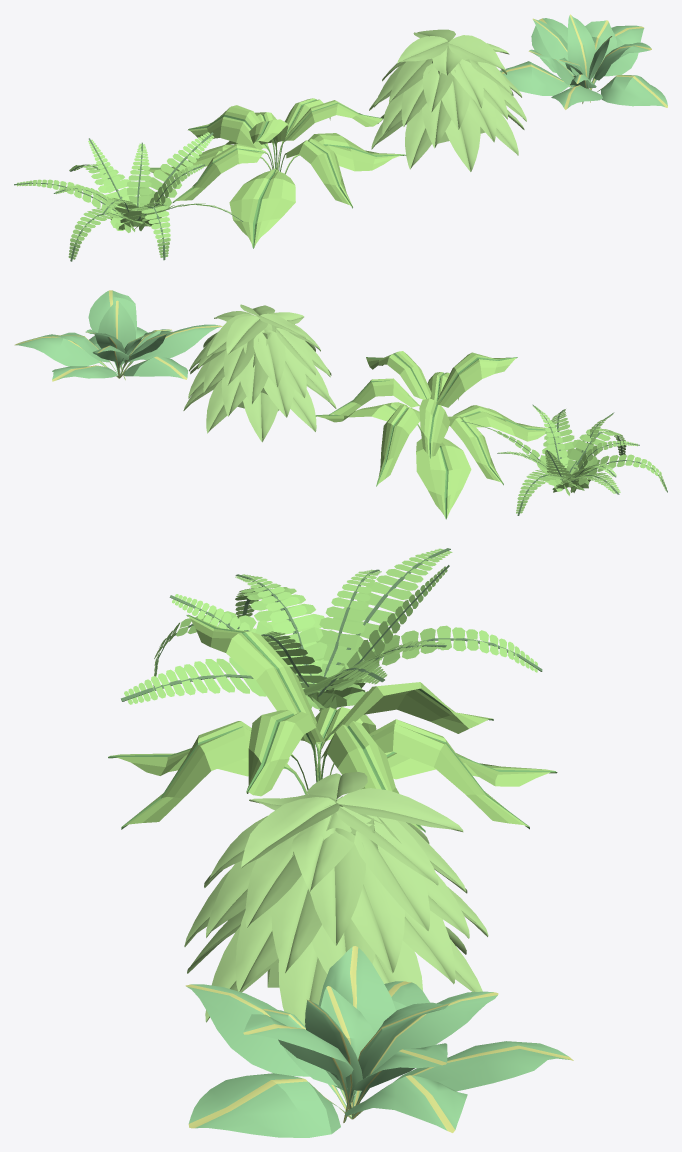
File: Small_plants.fbx
The picture shows the model from 3 angles, top to bottom: view 1: azimuth 30°, elevation 25°; view 2: azimuth 150°, elevation 25°; view 3: azimuth 270°, elevation 25°; orthographic projection. The views are drawn at different scales.
Parts seen in each view (by area): view 1: Small_plant02, Small_plant03, Small_plant01, Small_plant04; view 2: Small_plant03, Small_plant02, Small_plant01, Small_plant04; view 3: Small_plant02, Small_plant01, Small_plant03, Small_plant04.
Part boxes in pixels (x1,y1,x2,y2): Small_plant02: [369, 29, 526, 171]; Small_plant03: [138, 98, 406, 248]; Small_plant01: [500, 14, 667, 109]; Small_plant04: [14, 132, 243, 261]; Small_plant03: [315, 351, 559, 519]; Small_plant02: [183, 304, 336, 442]; Small_plant01: [14, 290, 222, 381]; Small_plant04: [461, 404, 667, 515]; Small_plant02: [184, 772, 488, 1026]; Small_plant01: [185, 946, 573, 1137]; Small_plant03: [108, 614, 557, 832]; Small_plant04: [121, 548, 542, 711].
Size of the model in its own units: 965 by 163 by 323.
